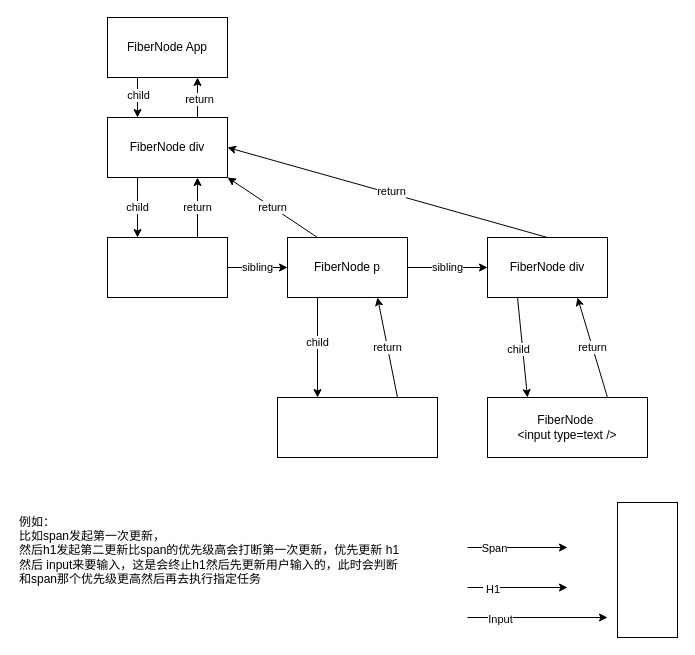
The diagram is 695 pixels wide and 655 high, and some of its shapes have lost their labels. The centre of each missing label's shape, as x and y in pixels:
"done" goes at [647,570].
"FiberNode <span>LearReact</span>" goes at [357,427].
"FiberNode h1" goes at [167,267].
